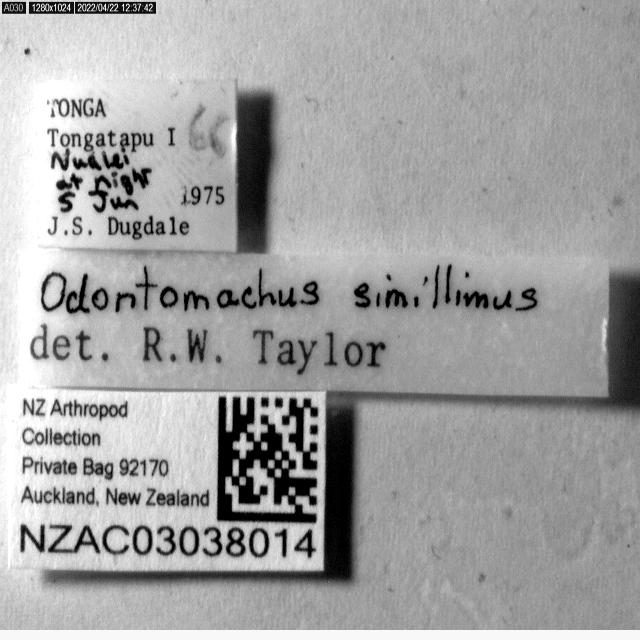mixed_label: (21, 250, 609, 397), (35, 78, 238, 252)
typed_label: (9, 386, 325, 572)
